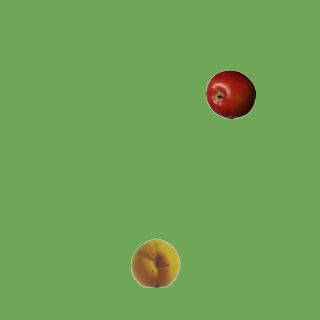Apple Braeburn: (205, 69, 255, 119)
Peach 2: (130, 237, 180, 287)
